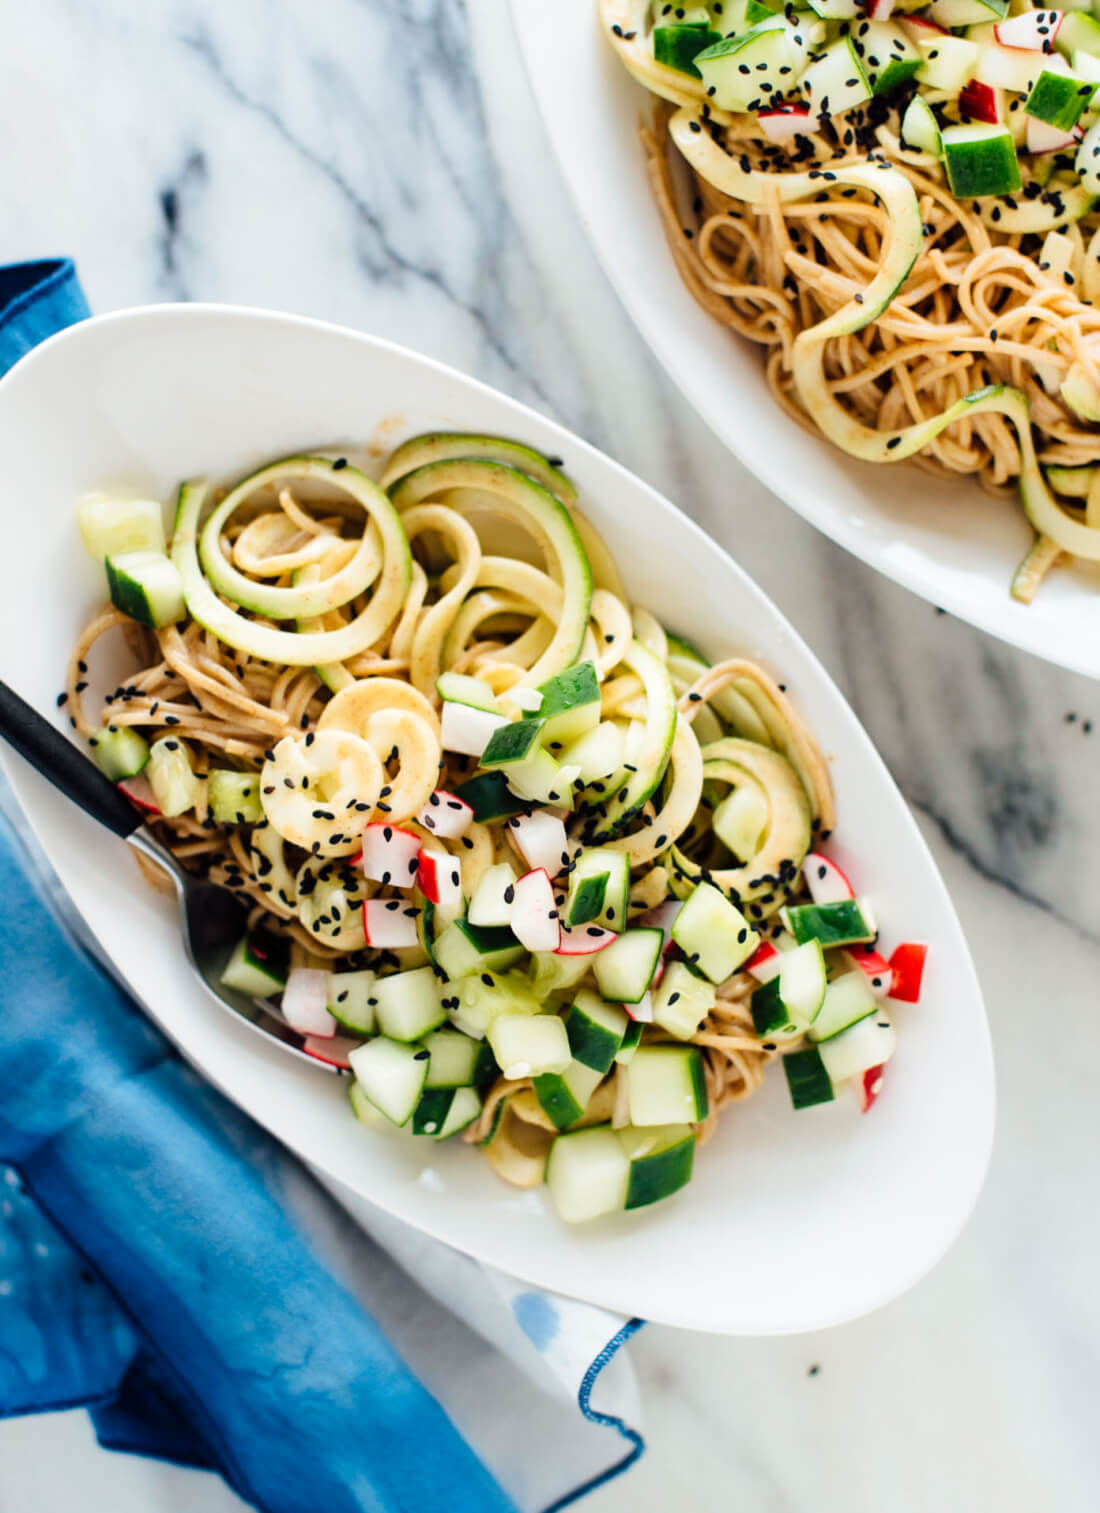Soba: (608, 29, 1100, 503)
